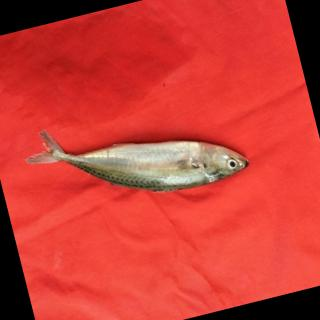Ikan: (13, 72, 264, 240)
